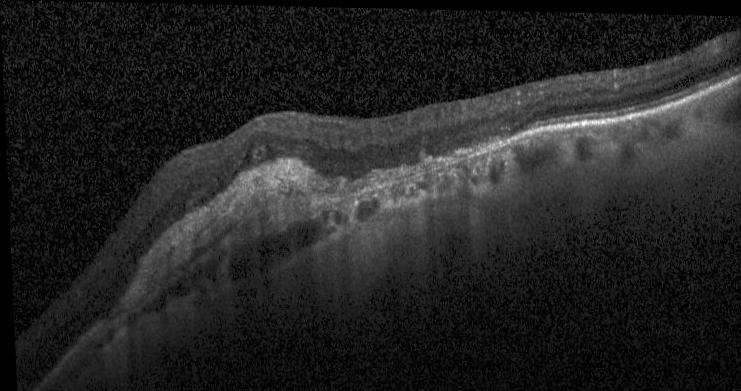subretinal_hyperreflective_material: (116, 153, 444, 310)
